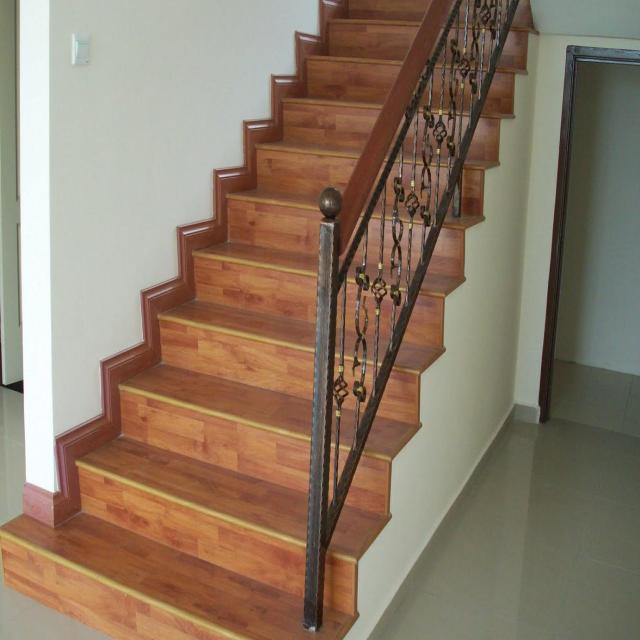Stairs: (46, 29, 502, 640)
